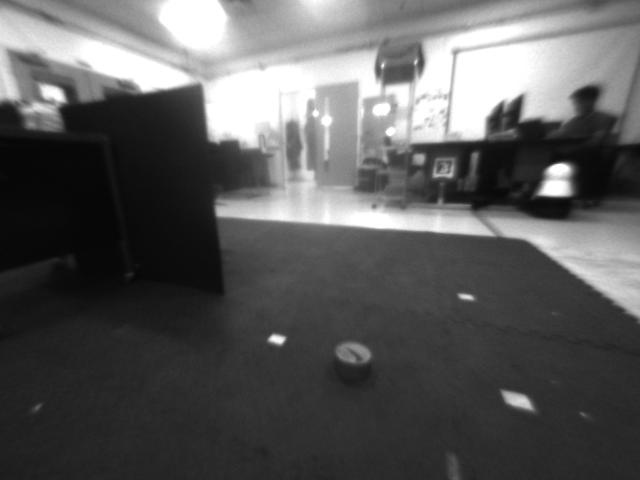dogtoy: (316, 335, 380, 390)
